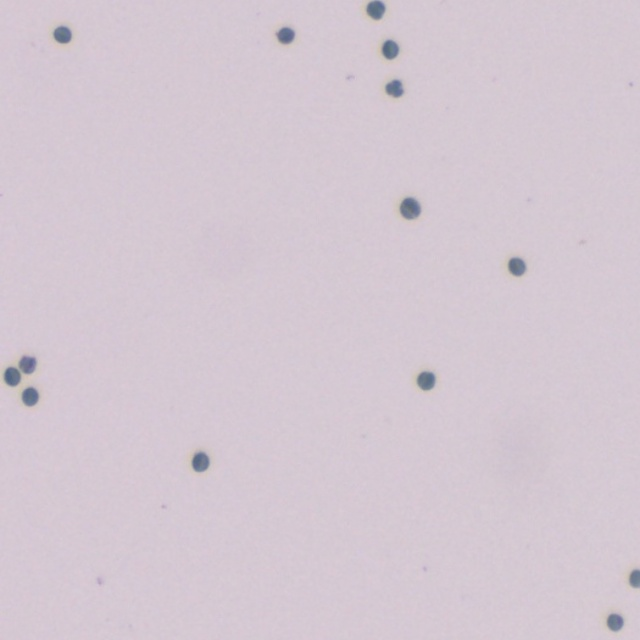non_viable: (400, 197, 419, 218), (21, 386, 39, 406), (366, 0, 384, 18), (381, 40, 398, 59), (191, 453, 209, 470), (18, 355, 35, 373), (417, 372, 434, 389), (54, 26, 71, 43), (508, 257, 524, 275), (385, 80, 402, 96), (277, 27, 294, 43), (607, 613, 623, 630), (629, 569, 640, 587), (5, 369, 18, 383)
